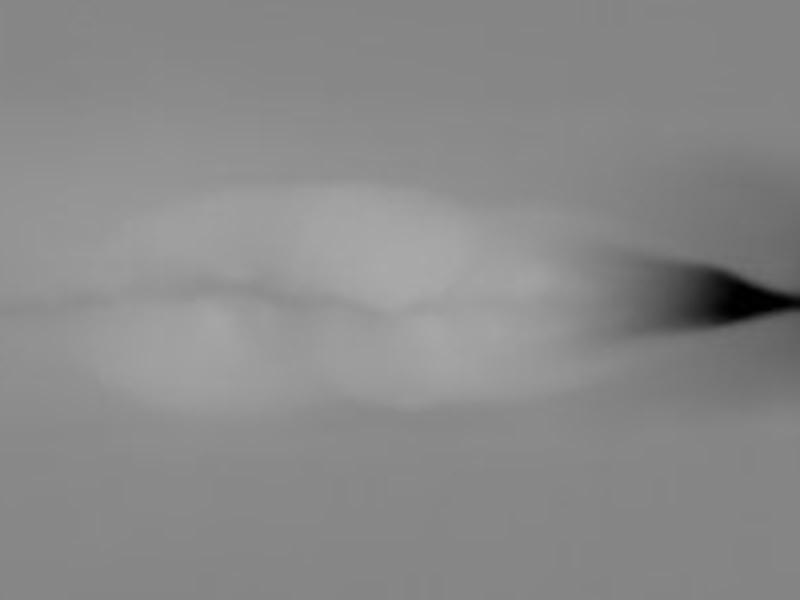defect: (646, 260, 795, 328)
